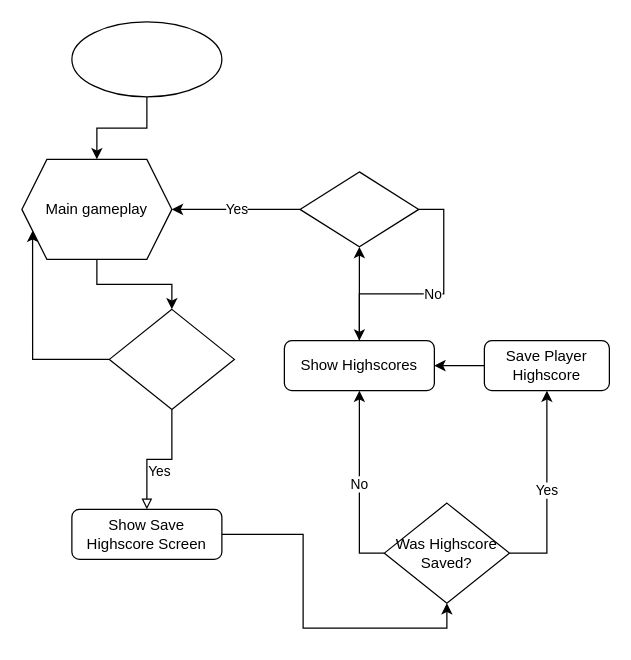
This 631x660 diagram has some shape labels left out. Each missing label, with the centre of its shape:
Is game over?: [171,358]
Start: [146,59]
Was Any Key Pressed?: [359,209]
